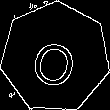O_N: (28, 27, 83, 88)
